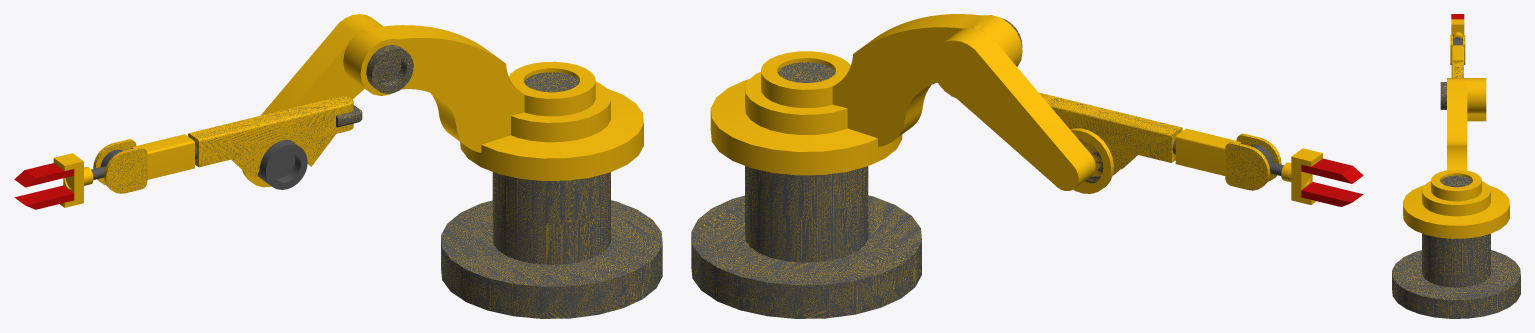
The model's file is robot_arm.dae.
3 views of the same model, side by side, from view 1: azimuth 30°, elevation 25°; view 2: azimuth 150°, elevation 25°; view 3: azimuth 270°, elevation 25° (orthographic). The views are drawn at different scales.
Parts seen in each view (by area): view 1: group_0 (×5), group_1 (×3), group_5, group_2, group_7 (×2), group_3 (×2), group_8, group_11 (×2), group_10; view 2: group_0 (×5), group_2, group_1, group_5, group_7 (×2), group_8, group_11 (×2), group_10; view 3: group_0 (×5), group_1 (×2), group_2, group_5, group_8, group_10.
Boxes of the visible parts, bbox=[...] form: group_0 (×5): bbox=[441, 61, 662, 318]; group_1 (×3): bbox=[343, 25, 524, 152]; group_5: bbox=[188, 96, 353, 178]; group_2: bbox=[242, 14, 382, 187]; group_7 (×2): bbox=[93, 139, 147, 193]; group_3 (×2): bbox=[257, 139, 307, 189]; group_8: bbox=[132, 134, 194, 179]; group_11 (×2): bbox=[14, 163, 74, 209]; group_10: bbox=[53, 153, 83, 207]; group_0 (×5): bbox=[691, 51, 921, 318]; group_2: bbox=[932, 28, 1113, 193]; group_1: bbox=[832, 14, 1022, 146]; group_5: bbox=[1039, 92, 1182, 175]; group_7 (×2): bbox=[1225, 133, 1281, 190]; group_8: bbox=[1175, 128, 1240, 175]; group_11 (×2): bbox=[1301, 158, 1363, 206]; group_10: bbox=[1291, 148, 1322, 204]; group_0 (×5): bbox=[1392, 170, 1520, 318]; group_1 (×2): bbox=[1440, 78, 1467, 170]; group_2: bbox=[1467, 78, 1486, 121]; group_5: bbox=[1451, 61, 1463, 77]; group_8: bbox=[1451, 45, 1463, 61]; group_10: bbox=[1451, 19, 1464, 35].
Bounding box in the file's own units: 634 × 194 × 271.
